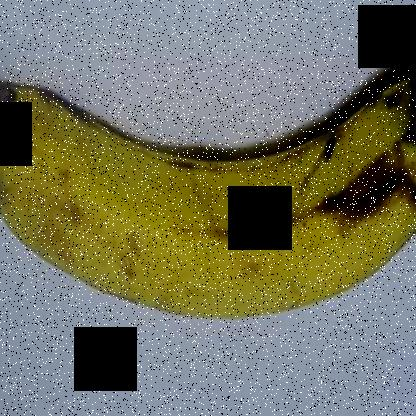ripe: (1, 31, 415, 332)
